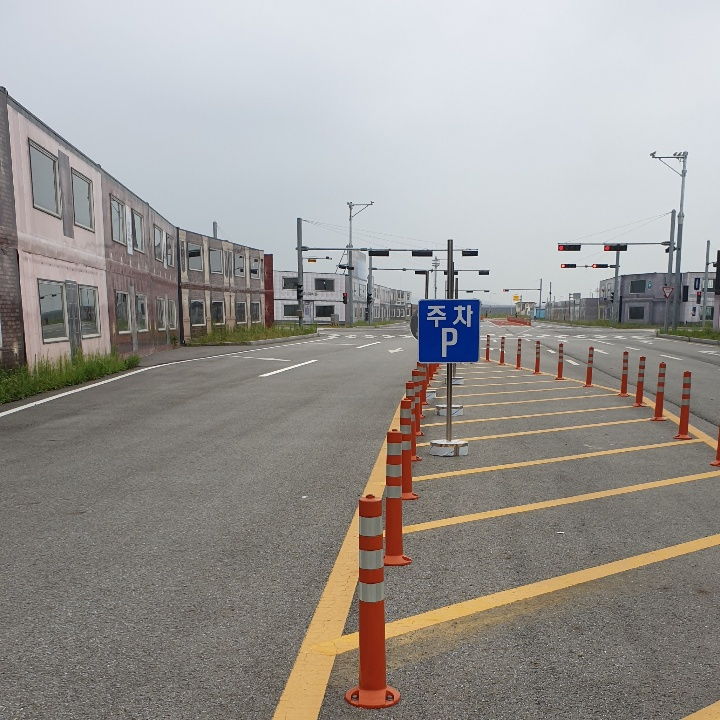parking: (438, 319, 460, 363)
